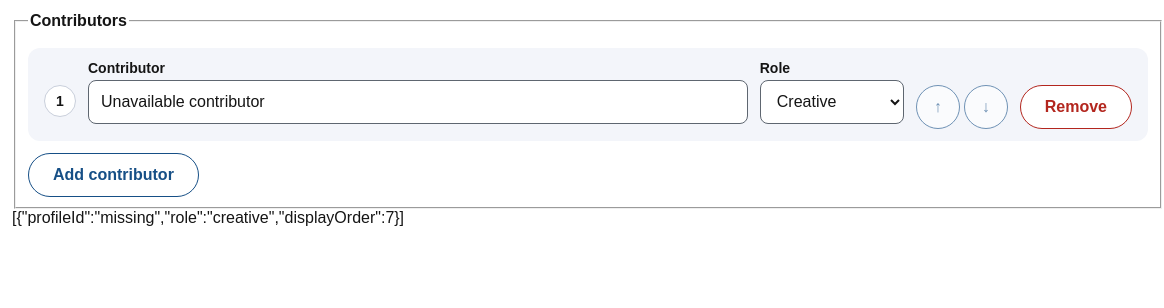
it: explains the open credit cap without selecting the rejected name
Replace the text in the dropdown named "Contributor 1" with "Another Person" at (418, 102), box [88,80,748,124]
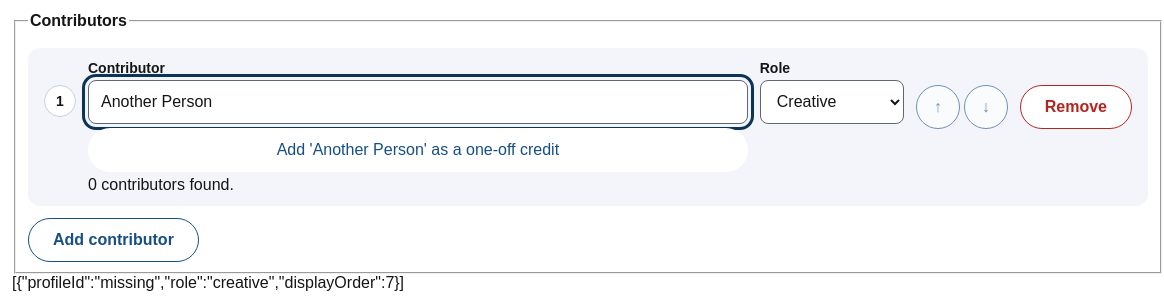
Result: the option "Add 'Another Person' as a one-off credit" is shown at [88,128,748,172]
Press Arrowdown Enter
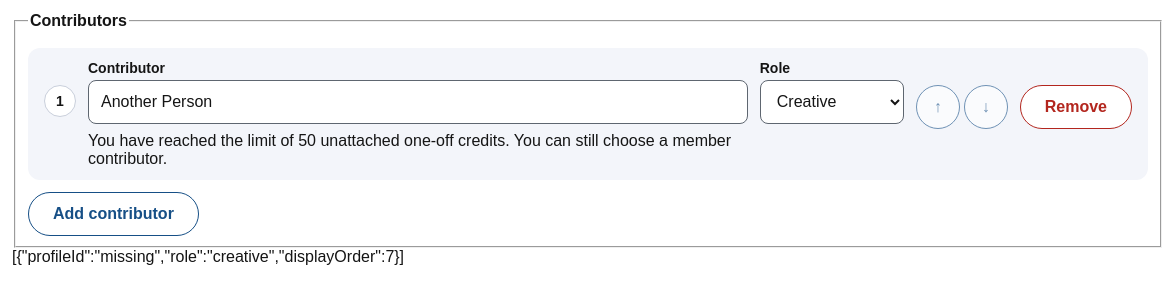
Result: the message shows "50 unattached one-off credits" at [88,132,731,167]
